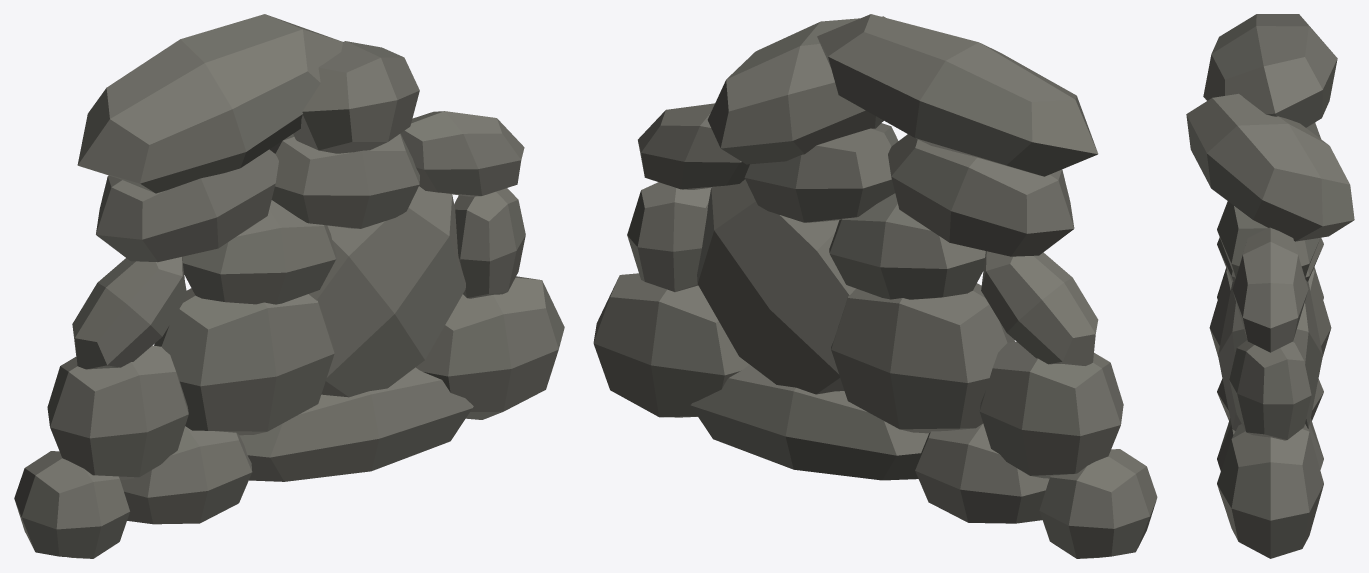
File: Wall3.fbx
3 renders of one model, left to right at view 1: azimuth 30°, elevation 25°; view 2: azimuth 150°, elevation 25°; view 3: azimuth 270°, elevation 25°, orthographic. The views are drawn at different scales.
Parts seen in each view (by area): view 1: Cube.029; view 2: Cube.029; view 3: Cube.029.
Boxes of the visible parts, x1,y1,x2,y2 form: Cube.029: (14,14,564,558); Cube.029: (593,14,1157,558); Cube.029: (1186,14,1354,558).
Bounding box in the file's own units: 6.81 × 5.73 × 1.99.
